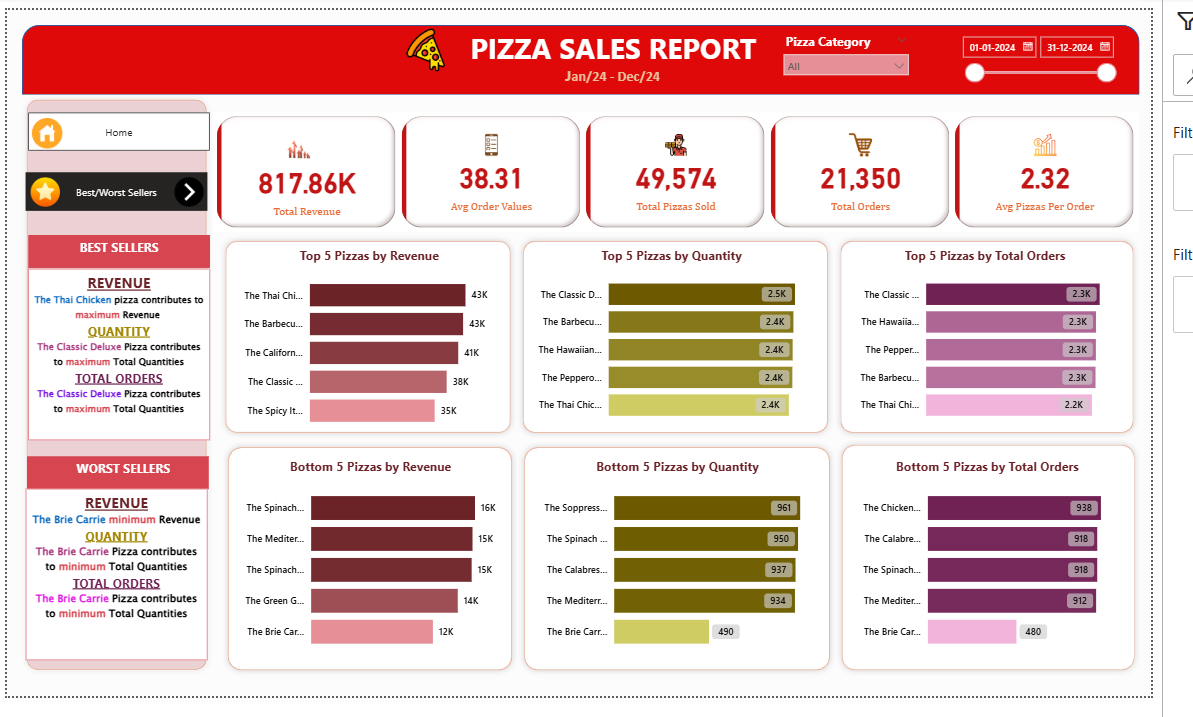

This screenshot's page, from the dashboard's own definition file:
{"tool":"powerbi","page":{"name":"Best/Worst Sellers","canvas":[1500,900],"ordinal":1},"visuals":[{"type":"cardVisual","fields":{"Data":["pizza_sales.Total Revenue","pizza_sales.Avg Order Values","pizza_sales.Total Pizzas Sold","pizza_sales.Total Orders","pizza_sales.Avg Pizzas Per Order"]},"box":[270.7,134.5,1213.8,156.9],"z":0},{"type":"shape","box":[19,19,1465.5,91.4],"z":1000},{"type":"textbox","box":[589.7,19,410.3,65.5],"z":2000},{"type":"textbox","box":[694.8,69,198.3,41.4],"z":3000},{"type":"image","box":[508.6,19,81,65.5],"z":4000},{"type":"shape","box":[279.3,294.8,389.7,267.2],"z":5000},{"type":"shape","box":[18.3,110,251.7,763.3],"z":6000},{"type":"textbox","box":[28.3,295,238.3,43.3],"z":7000},{"type":"textbox","box":[28.3,340,238.3,225],"z":8000},{"type":"textbox","box":[26.7,585,238.3,43.3],"z":9000},{"type":"textbox","box":[25,628.3,238.3,225],"z":10000},{"type":"slicer","fields":{"Values":["pizza_sales.pizza_category"]},"box":[1008.6,24.1,184.5,87.9],"z":11000},{"type":"slicer","fields":{"Values":["pizza_sales.order_date"]},"box":[1241.4,24.1,222.4,87.9],"z":12000},{"type":"shape","box":[669,294.8,415.5,267.2],"z":13000},{"type":"shape","box":[1084.5,294.8,400,267.2],"z":14000},{"type":"shape","box":[670,565,416.7,308.3],"z":15000},{"type":"shape","box":[281.7,565,388.3,308.3],"z":16000},{"type":"shape","box":[1086.7,561.7,400,311.7],"z":17000},{"type":"barChart","title":"Top 5 Pizzas by Revenue","fields":{"Category":["pizza_sales.pizza_name"],"Y":["pizza_sales.Total Revenue"]},"box":[293.3,310,363.3,251.7],"z":18000},{"type":"barChart","title":"Bottom 5 Pizzas by Revenue","fields":{"Category":["pizza_sales.pizza_name"],"Y":["pizza_sales.Total Revenue"]},"box":[295,586.7,363.3,266.7],"z":19000},{"type":"barChart","title":"Top 5 Pizzas by Quantity","fields":{"Category":["pizza_sales.pizza_name"],"Y":["pizza_sales.Total Pizzas Sold"]},"box":[681,310.3,382.8,243.1],"z":20000},{"type":"barChart","title":"Bottom 5 Pizzas by Quantity","fields":{"Category":["pizza_sales.pizza_name"],"Y":["pizza_sales.Total Pizzas Sold"]},"box":[688.3,586.7,381.7,266.7],"z":21000},{"type":"barChart","title":"Top 5 Pizzas by Total Orders","fields":{"Category":["pizza_sales.pizza_name"],"Y":["pizza_sales.Total Orders"]},"box":[1101.7,310.3,362.1,243.1],"z":22000},{"type":"barChart","title":"Bottom 5 Pizzas by Total Orders","fields":{"Category":["pizza_sales.pizza_name"],"Y":["pizza_sales.Total Orders"]},"box":[1105,586.7,361.7,266.7],"z":23000},{"type":"pageNavigator","box":[25,213.3,238.3,50],"z":24000},{"type":"pageNavigator","box":[28.3,135,238.3,50],"z":25000},{"type":"image","box":[215,208.3,48.3,60],"z":26000},{"type":"image","box":[28.3,135,50,55],"z":27000},{"type":"image","box":[26.7,215,48.3,48.3],"z":28000}]}

Visuals, with their boxes on the page's 1500x900 design canvas (x1, y1, x2, y2). These are canvas units, not pixel positions in the 1193x717 screenshot, which may show the page scaled, cropped or inside an application window:
cardVisual - pizza_sales.Total Revenue x pizza_sales.Avg Order Values: x1=271, y1=134, x2=1484, y2=291
shape: x1=19, y1=19, x2=1484, y2=110
textbox: x1=590, y1=19, x2=1000, y2=84
textbox: x1=695, y1=69, x2=893, y2=110
image: x1=509, y1=19, x2=590, y2=84
shape: x1=279, y1=295, x2=669, y2=562
shape: x1=18, y1=110, x2=270, y2=873
textbox: x1=28, y1=295, x2=267, y2=338
textbox: x1=28, y1=340, x2=267, y2=565
textbox: x1=27, y1=585, x2=265, y2=628
textbox: x1=25, y1=628, x2=263, y2=853
slicer - pizza_sales.pizza_category: x1=1009, y1=24, x2=1193, y2=112
slicer - pizza_sales.order_date: x1=1241, y1=24, x2=1464, y2=112
shape: x1=669, y1=295, x2=1084, y2=562
shape: x1=1084, y1=295, x2=1484, y2=562
shape: x1=670, y1=565, x2=1087, y2=873
shape: x1=282, y1=565, x2=670, y2=873
shape: x1=1087, y1=562, x2=1487, y2=873
"Top 5 Pizzas by Revenue" barChart: x1=293, y1=310, x2=657, y2=562
"Bottom 5 Pizzas by Revenue" barChart: x1=295, y1=587, x2=658, y2=853
"Top 5 Pizzas by Quantity" barChart: x1=681, y1=310, x2=1064, y2=553
"Bottom 5 Pizzas by Quantity" barChart: x1=688, y1=587, x2=1070, y2=853
"Top 5 Pizzas by Total Orders" barChart: x1=1102, y1=310, x2=1464, y2=553
"Bottom 5 Pizzas by Total Orders" barChart: x1=1105, y1=587, x2=1467, y2=853
pageNavigator: x1=25, y1=213, x2=263, y2=263
pageNavigator: x1=28, y1=135, x2=267, y2=185
image: x1=215, y1=208, x2=263, y2=268
image: x1=28, y1=135, x2=78, y2=190
image: x1=27, y1=215, x2=75, y2=263
